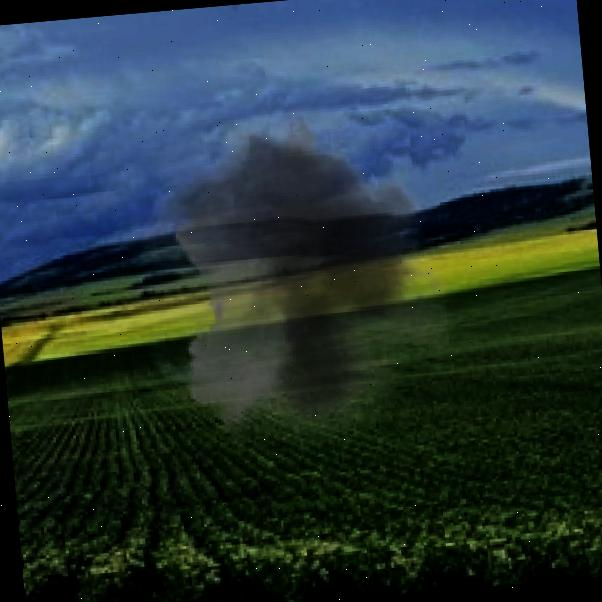smoke: (92, 90, 480, 465)
